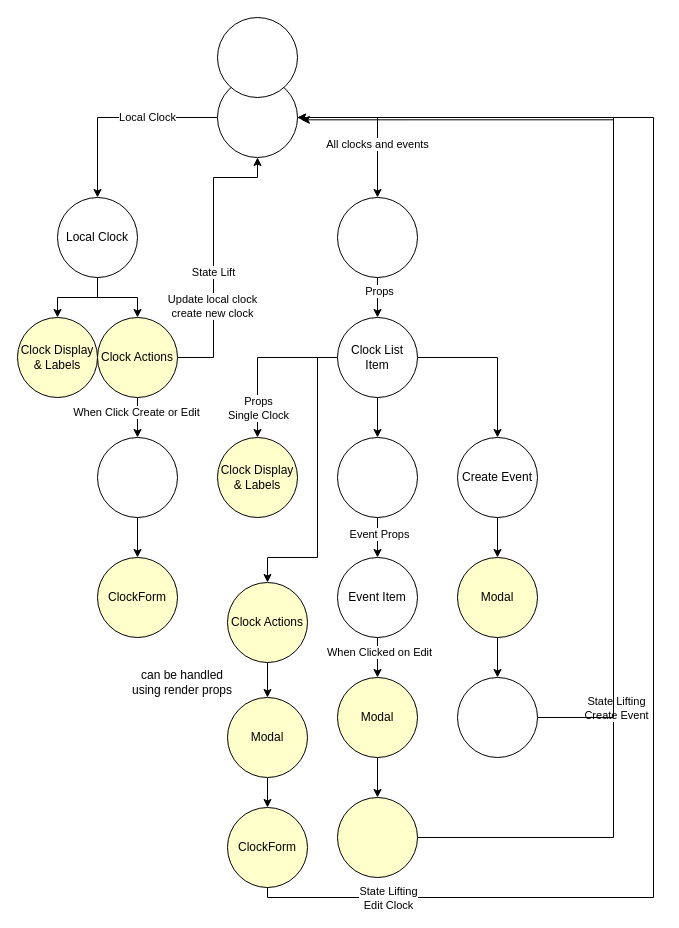
Image size: 679x928. Some labels were removed from this diagram. Each missing label, with the centre of its shape:
"APP" belongs at point 257,117.
"Clock List" belongs at point 377,237.
"Create Clock Modal" belongs at point 137,477.
"Create Event Form" belongs at point 497,717.
"EventForm" belongs at point 377,837.
"States" belongs at point 257,57.
"Toggle Events local state" belongs at point 377,477.
